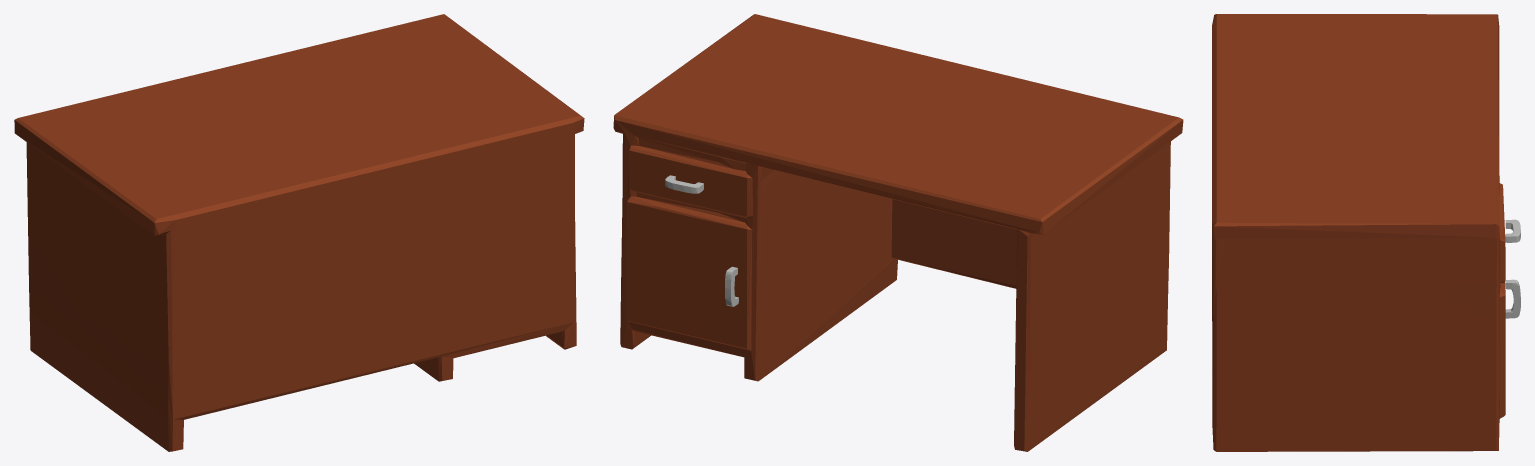
The model's file is schreibtisch.glb.
3 renders of one model, left to right at view 1: azimuth 30°, elevation 25°; view 2: azimuth 150°, elevation 25°; view 3: azimuth 270°, elevation 25°, orthographic.
Visible parts, largest first — view 1: 282367_23_05_24_18_12_22_3; view 2: 282367_23_05_24_18_12_22_3; view 3: 282367_23_05_24_18_12_22_3, 282367_23_05_24_18_12_22_2, 282367_23_05_24_18_12_22_1.
Boxes of the visible parts, left/top/right/bottom form: 282367_23_05_24_18_12_22_3: left=14, top=14, right=584, bottom=451; 282367_23_05_24_18_12_22_3: left=613, top=14, right=1183, bottom=451; 282367_23_05_24_18_12_22_3: left=1212, top=14, right=1505, bottom=451; 282367_23_05_24_18_12_22_2: left=1505, top=279, right=1520, bottom=318; 282367_23_05_24_18_12_22_1: left=1505, top=219, right=1520, bottom=242.
Bounding box in the file's own units: 8.54 × 4.47 × 5.26.
3 materials, 3 textured.
